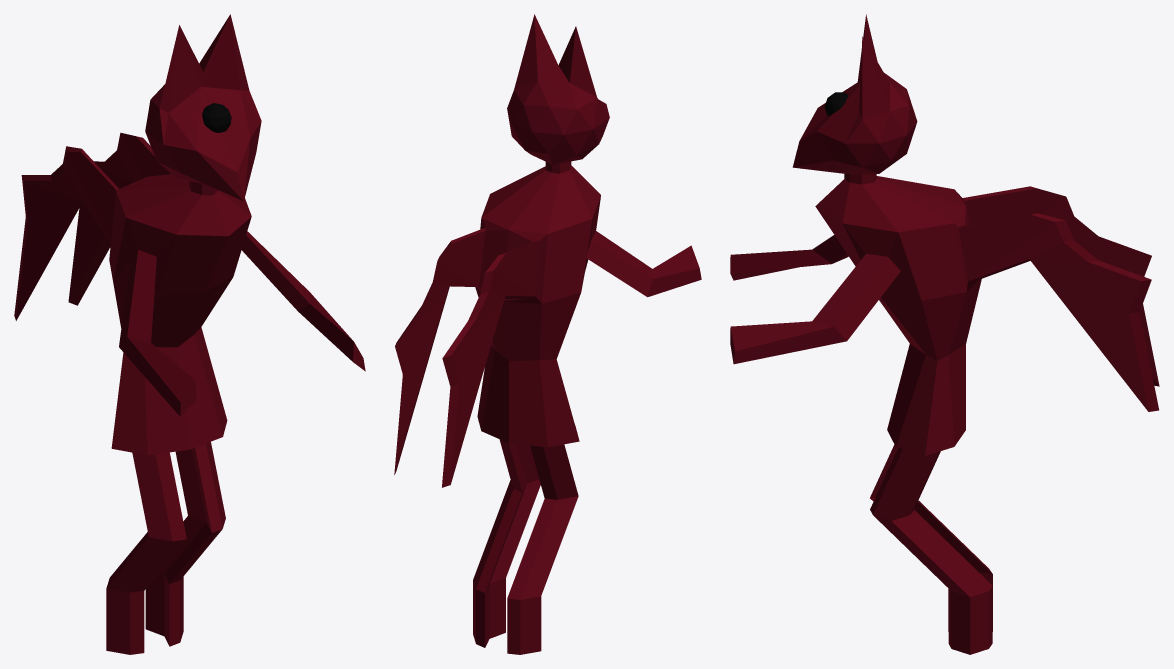
The model's file is Imp.fbx.
3 views of the same model, side by side, from view 1: azimuth 30°, elevation 25°; view 2: azimuth 150°, elevation 25°; view 3: azimuth 270°, elevation 25° (orthographic). The views are drawn at different scales.
Visible parts, largest first — view 1: Cube, Icosphere, Cube.002, Cube.001; view 2: Cube, Icosphere, Cube.002, Cube.001; view 3: Cube, Cube.001, Icosphere, Cube.002.
Part boxes in pixels (x1,y1,x2,y2): Cube: (106, 174, 365, 654); Icosphere: (145, 14, 261, 201); Cube.002: (14, 146, 118, 320); Cube.001: (68, 132, 170, 305); Cube: (473, 161, 701, 654); Icosphere: (507, 14, 609, 164); Cube.002: (442, 240, 539, 487); Cube.001: (394, 227, 485, 474); Cube: (730, 174, 992, 654); Cube.001: (958, 213, 1158, 411); Icosphere: (792, 14, 917, 173); Cube.002: (963, 186, 1159, 386).
Bounding box in the file's own units: 262 × 894 × 567.
